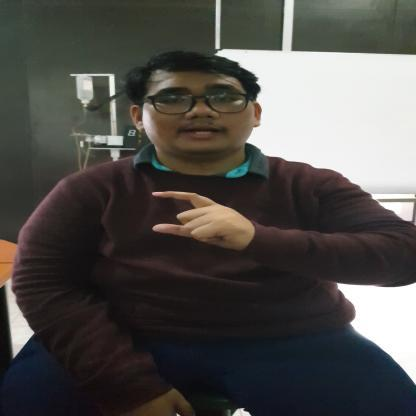C: (149, 190, 257, 248)
